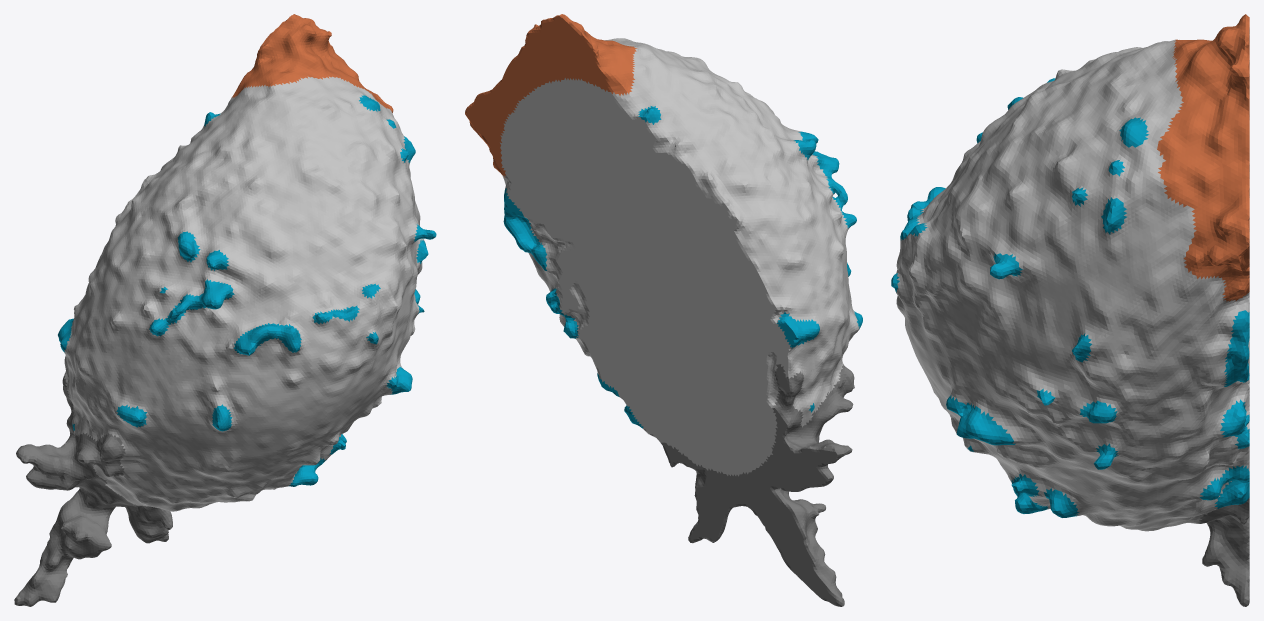
3 renders of one model, left to right at view 1: azimuth 30°, elevation 25°; view 2: azimuth 150°, elevation 25°; view 3: azimuth 270°, elevation 25°, orthographic. The views are drawn at different scales.
Bounding box in the file's own units: 116 × 154 × 70.14.
